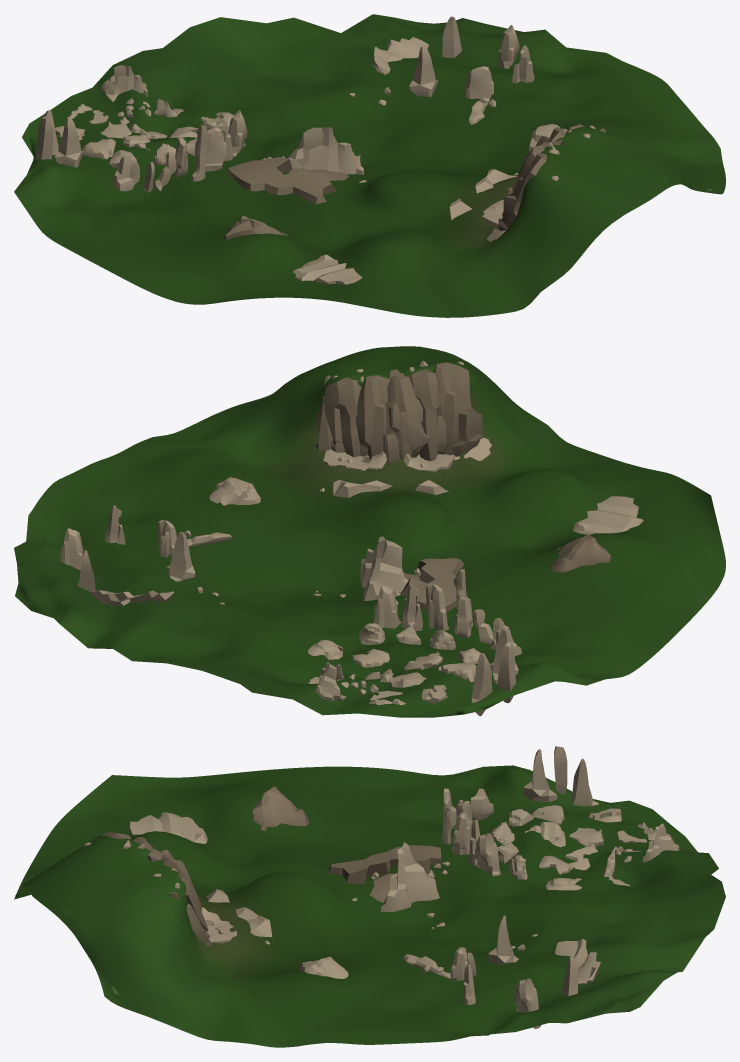
File: rocks.glb
3 views of the same model, one above another, from view 1: azimuth 30°, elevation 25°; view 2: azimuth 150°, elevation 25°; view 3: azimuth 270°, elevation 25° (orthographic).
Parts seen in each view (by area): view 1: Plane, rock.046, rock.005, rock.040, rock.061, rock.044, rock.026, rock.043, rock.004, rock.029, rock.010, rock.015 (+9 smaller); view 2: Plane, rock.040, rock.005, rock.046, rock.061, rock.047, rock.062, rock.074, rock.043, rock.008, rock.044, rock.069 (+8 smaller); view 3: Plane, rock.046, rock.005, rock.040, rock.047, rock.061, rock.044, rock.004, rock.074, rock.008, rock.018, rock.043 (+10 smaller).
Boxes of the visible parts, x1=… form: Plane: x1=14, y1=14, x2=725, y2=317; rock.046: x1=228, y1=157, x2=348, y2=204; rock.005: x1=288, y1=127, x2=363, y2=174; rock.040: x1=498, y1=124, x2=605, y2=230; rock.061: x1=293, y1=254, x2=362, y2=284; rock.044: x1=372, y1=37, x2=428, y2=74; rock.026: x1=101, y1=65, x2=147, y2=101; rock.043: x1=409, y1=46, x2=438, y2=96; rock.004: x1=54, y1=117, x2=83, y2=167; rock.029: x1=465, y1=66, x2=493, y2=98; rock.010: x1=205, y1=128, x2=226, y2=171; rock.015: x1=112, y1=155, x2=139, y2=191; Plane: x1=14, y1=346, x2=725, y2=717; rock.040: x1=316, y1=362, x2=482, y2=463; rock.005: x1=360, y1=536, x2=408, y2=600; rock.046: x1=399, y1=558, x2=467, y2=611; rock.061: x1=573, y1=496, x2=643, y2=534; rock.047: x1=551, y1=534, x2=611, y2=572; rock.062: x1=209, y1=477, x2=260, y2=505; rock.074: x1=333, y1=454, x2=459, y2=497; rock.043: x1=166, y1=532, x2=195, y2=581; rock.008: x1=372, y1=585, x2=401, y2=628; rock.044: x1=90, y1=590, x2=174, y2=606; rock.069: x1=323, y1=449, x2=387, y2=470; Plane: x1=14, y1=765, x2=725, y2=1047; rock.046: x1=328, y1=845, x2=442, y2=902; rock.005: x1=380, y1=842, x2=439, y2=911; rock.040: x1=101, y1=832, x2=212, y2=946; rock.047: x1=252, y1=786, x2=308, y2=831; rock.061: x1=128, y1=812, x2=207, y2=843; rock.044: x1=554, y1=938, x2=600, y2=984; rock.004: x1=524, y1=749, x2=557, y2=802; rock.074: x1=206, y1=889, x2=272, y2=937; rock.008: x1=474, y1=833, x2=500, y2=876; rock.018: x1=572, y1=758, x2=598, y2=806; rock.043: x1=488, y1=915, x2=518, y2=963.
Size of the model in its own units: 156 by 34.21 by 158.
